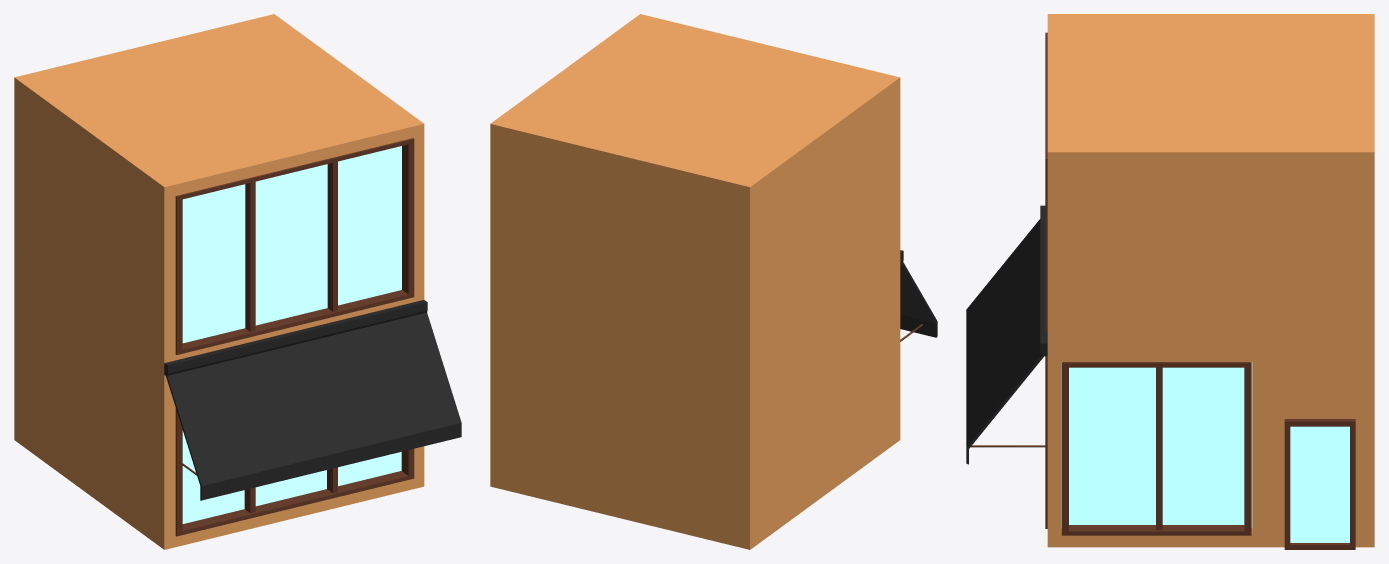
The model's file is building3.fbx.
3 renders of one model, left to right at view 1: azimuth 30°, elevation 25°; view 2: azimuth 150°, elevation 25°; view 3: azimuth 270°, elevation 25°, orthographic. The views are drawn at different scales.
Parts seen in each view (by area): view 1: PreparedBuilding; view 2: PreparedBuilding; view 3: PreparedBuilding.
Boxes of the visible parts, <box> form: PreparedBuilding: <box>14,14,461,549</box>; PreparedBuilding: <box>490,14,937,549</box>; PreparedBuilding: <box>966,14,1374,549</box>.
Bounding box in the file's own units: 612 × 749 × 800.
